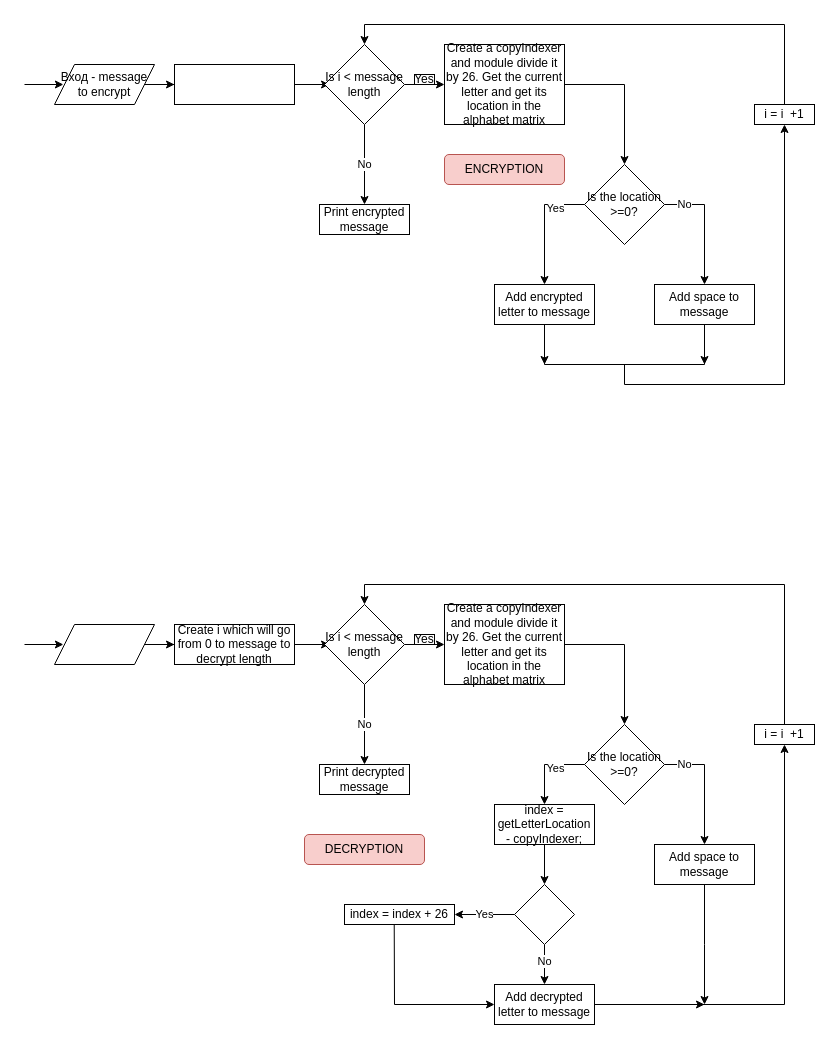
Image size: 832x1042. Some labels were removed from this diagram. Each missing label, with the centre of its shape:
"Create i which will go from 0 to message to encrypt length" belongs at point (234, 84).
"index < 0" belongs at point (544, 914).
"Вход - message to decrypt" belongs at point (104, 644).
